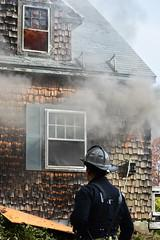smoke: (88, 79, 159, 126), (87, 14, 141, 66)
